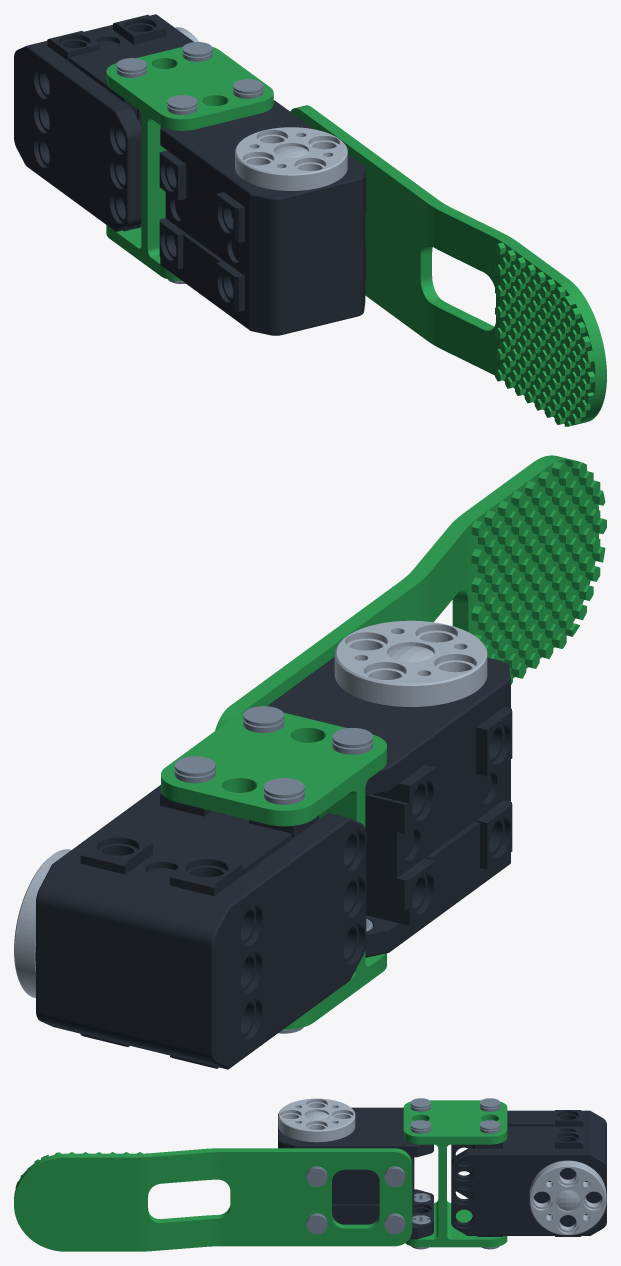
Rendered from section_4.dae.
3 renders of one model, top to bottom at view 1: azimuth 30°, elevation 25°; view 2: azimuth 150°, elevation 25°; view 3: azimuth 270°, elevation 25°, orthographic. The views are drawn at different scales.
Parts seen in each view (by area): view 1: section_4_006_fixed_part, section_4_021_body, section_4_026_body, section_4_023_fixation, section_4_022_horn; view 2: section_4_026_body, section_4_021_body, section_4_006_fixed_part, section_4_023_fixation, section_4_022_horn, section_4_027_horn; view 3: section_4_006_fixed_part, section_4_026_body, section_4_021_body, section_4_023_fixation, section_4_027_horn, section_4_022_horn, section_4_004_insert, section_4_025_insert, section_4_010_insert, section_4_012_insert.
Part boxes in pixels (<box>): section_4_006_fixed_part: <box>290,105,606,426</box>; section_4_021_body: <box>159,100,366,335</box>; section_4_026_body: <box>14,14,193,231</box>; section_4_023_fixation: <box>106,46,273,281</box>; section_4_022_horn: <box>235,127,347,190</box>; section_4_026_body: <box>35,785,366,1069</box>; section_4_021_body: <box>267,657,512,957</box>; section_4_006_fixed_part: <box>215,455,606,730</box>; section_4_023_fixation: <box>161,712,386,1029</box>; section_4_022_horn: <box>334,620,487,706</box>; section_4_027_horn: <box>14,849,71,997</box>; section_4_006_fixed_part: <box>14,1148,412,1251</box>; section_4_026_body: <box>451,1110,606,1236</box>; section_4_021_body: <box>278,1107,433,1239</box>; section_4_023_fixation: <box>403,1100,507,1247</box>; section_4_027_horn: <box>529,1160,606,1235</box>; section_4_022_horn: <box>278,1098,355,1142</box>; section_4_004_insert: <box>306,1215,327,1234</box>; section_4_025_insert: <box>384,1215,405,1234</box>; section_4_010_insert: <box>384,1168,405,1187</box>; section_4_012_insert: <box>306,1168,327,1187</box>.
Bounding box in the file's own units: 0.0291 × 0.137 × 0.0307.
